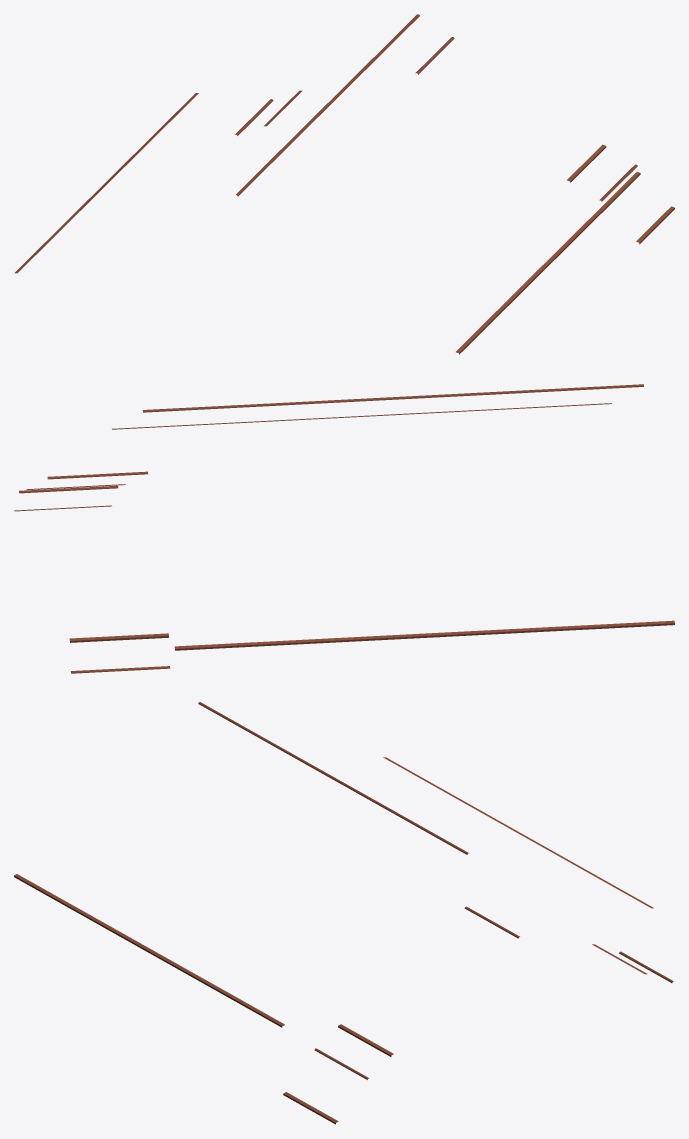
3 views of the same model, one above another, from view 1: azimuth 30°, elevation 25°; view 2: azimuth 150°, elevation 25°; view 3: azimuth 270°, elevation 25° (orthographic). The views are drawn at different scales.
Parts seen in each view (by area): view 1: detail; view 2: detail; view 3: detail.
Part boxes in pixels (box(x1,y1,x2,y2)): detail: box(14, 14, 674, 354); detail: box(14, 384, 674, 673); detail: box(14, 702, 673, 1124).
Size of the model in its own units: 60.71 by 17.51 by 56.85.
